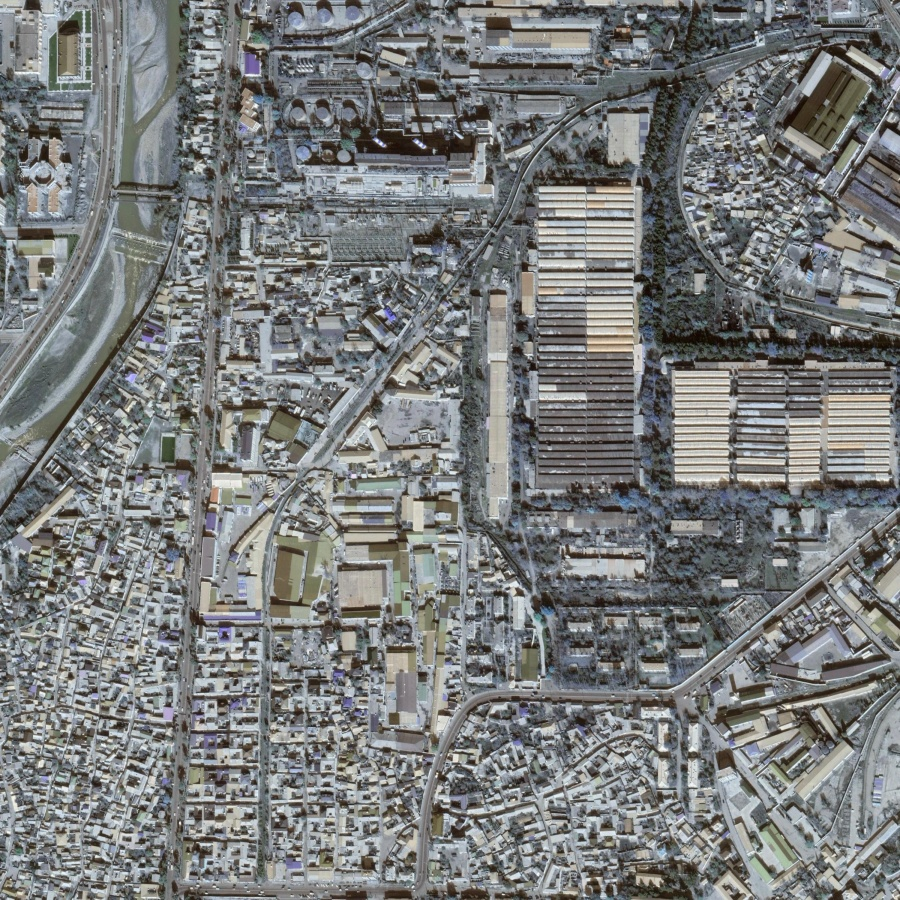PowerPlant: (278, 52, 499, 263)
